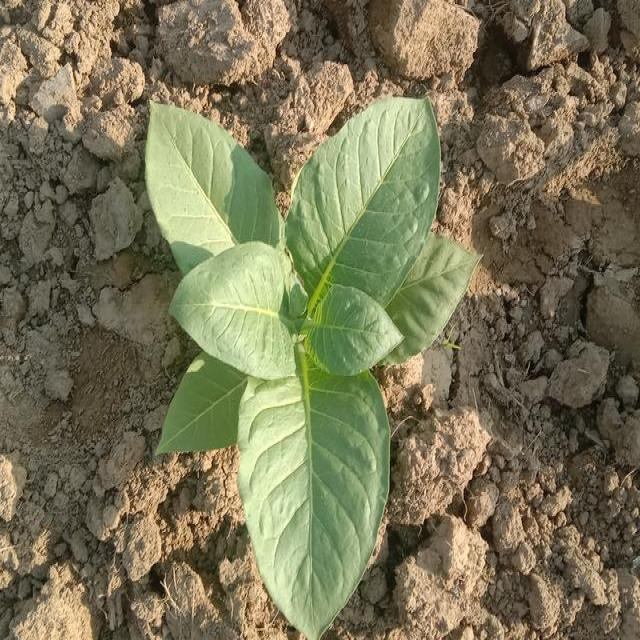crop: (154, 89, 480, 612)
